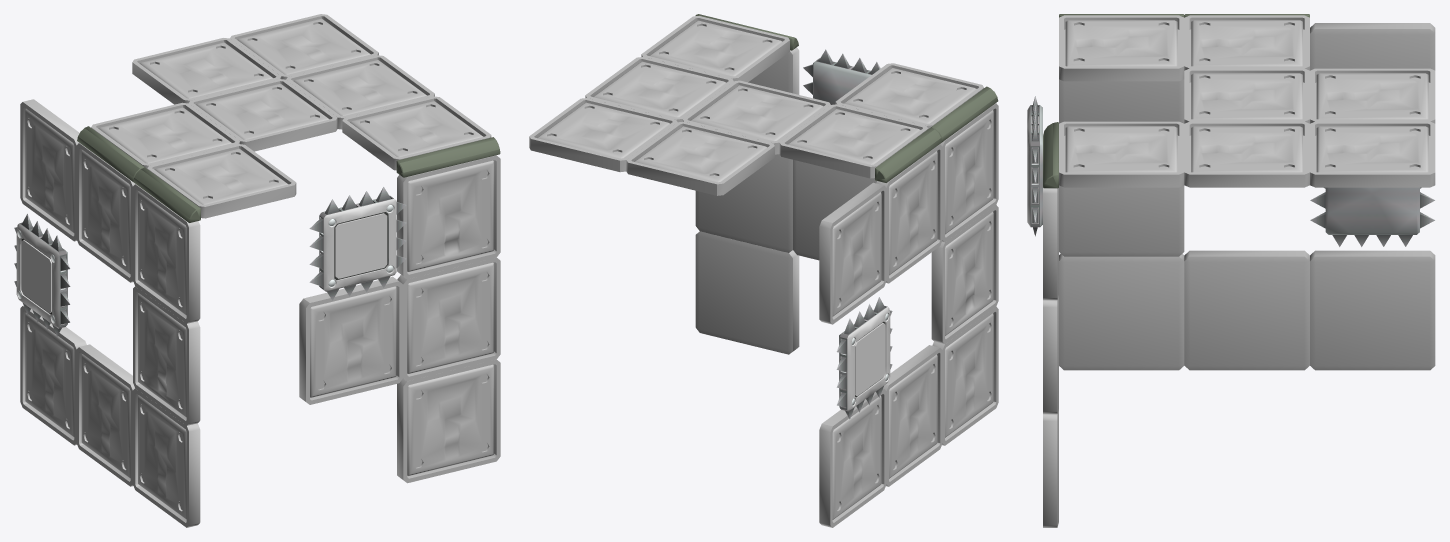
The model's file is miniflippanelexgalaxy.dae.
3 views of the same model, side by side, from view 1: azimuth 30°, elevation 25°; view 2: azimuth 150°, elevation 25°; view 3: azimuth 270°, elevation 25° (orthographic). The views are drawn at different scales.
Visible parts, largest first — view 1: n2b2, n1b1, n4b3, n0b0, n3b6, n8b5, n7b8; view 2: n2b2, n1b1, n3b6, n0b0, n4b3, n7b8, n8b5; view 3: n1b1, n2b2, n3b6, n0b0, n4b3, n7b8, n8b5.
Part boxes in pixels (box(x1,y1,x2,y2)): n2b2: box(25, 18, 493, 519); n1b1: box(20, 14, 500, 527); n4b3: box(319, 195, 396, 291); n0b0: box(77, 126, 500, 222); n3b6: box(16, 222, 67, 328); n8b5: box(309, 187, 406, 300); n7b8: box(14, 214, 70, 336); n2b2: box(537, 20, 993, 519); n1b1: box(529, 16, 998, 527); n3b6: box(839, 306, 890, 411); n0b0: box(695, 14, 998, 182); n4b3: box(813, 58, 871, 104); n7b8: box(836, 297, 892, 419); n8b5: box(803, 49, 880, 94); n1b1: box(1043, 15, 1435, 527); n2b2: box(1065, 20, 1428, 172); n3b6: box(1325, 187, 1419, 234); n0b0: box(1043, 14, 1309, 188); n4b3: box(1027, 105, 1042, 227); n7b8: box(1310, 187, 1434, 246); n8b5: box(1032, 96, 1038, 236).
Size of the model in its own units: 2600 by 2500 by 2600.
